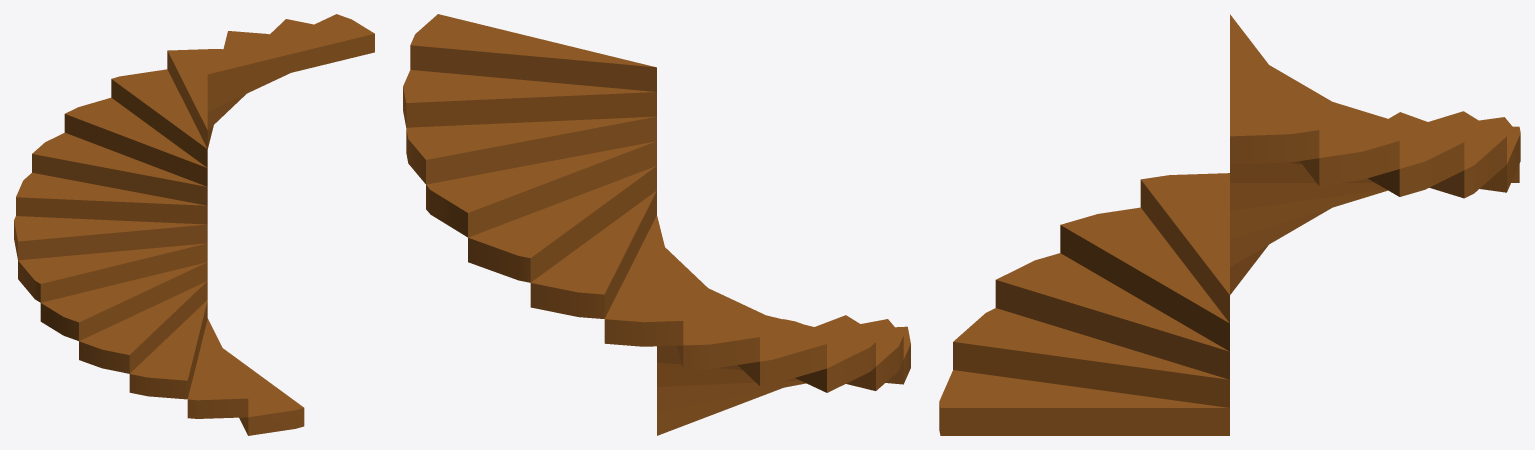
File: Dungeon_Stairs_Small_Full_Timber_01.fbx
3 renders of one model, left to right at view 1: azimuth 30°, elevation 25°; view 2: azimuth 150°, elevation 25°; view 3: azimuth 270°, elevation 25°, orthographic. The views are drawn at different scales.
Visible parts, largest first — view 1: Model; view 2: Model; view 3: Model.
Part boxes in pixels (x1,y1,x2,y2): Model: (14,14,374,435); Model: (403,14,910,435); Model: (939,14,1520,435).
Bounding box in the file's own units: 296 × 238 × 297.
